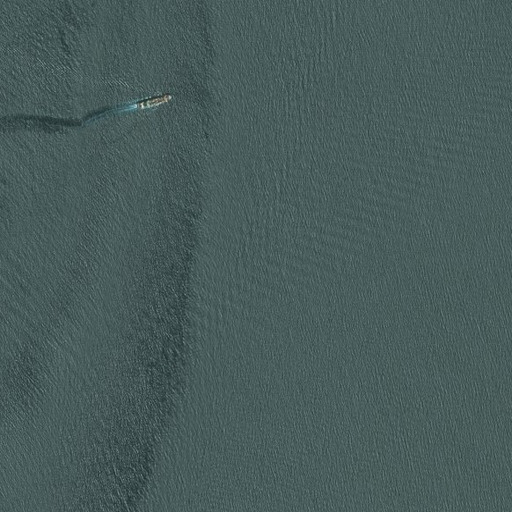ship: (132, 91, 174, 113)
